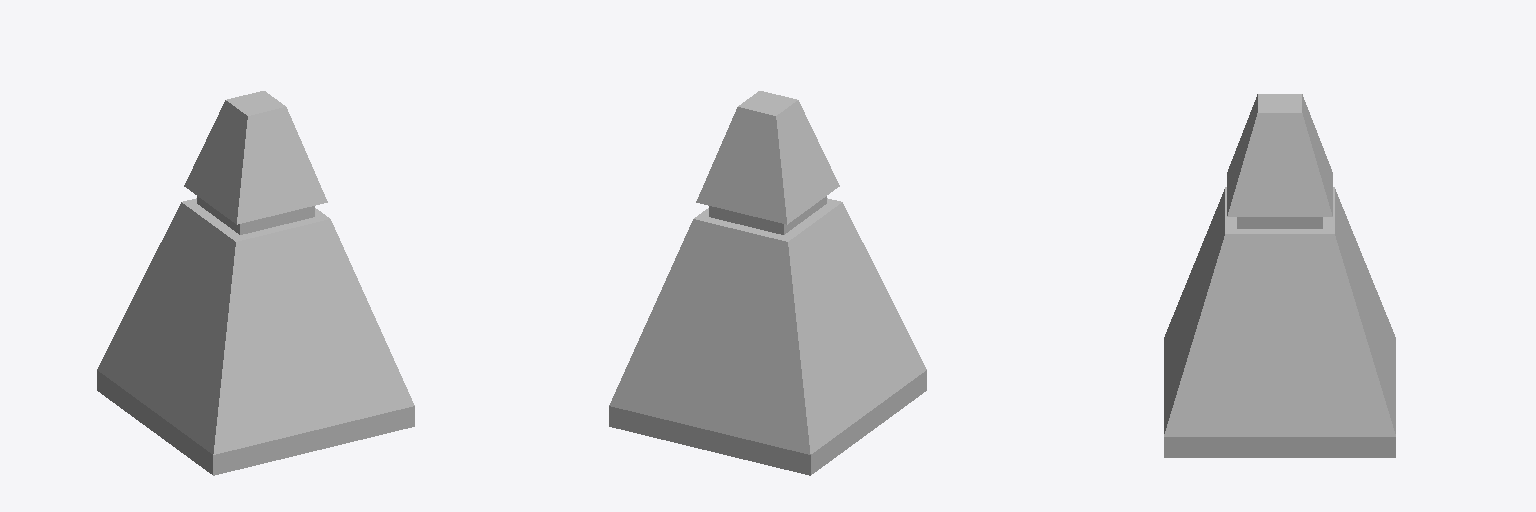
The model's file is bishop.obj.
3 renders of one model, left to right at view 1: azimuth 30°, elevation 25°; view 2: azimuth 150°, elevation 25°; view 3: azimuth 270°, elevation 25°, orthographic.
Parts seen in each view (by area): view 1: Cube; view 2: Cube; view 3: Cube.
Part boxes in pixels (x1,y1,x2,y2): Cube: (97,91,414,475); Cube: (609,91,926,475); Cube: (1164,94,1395,457).
Size of the model in its own units: 1.38 by 2 by 1.38.